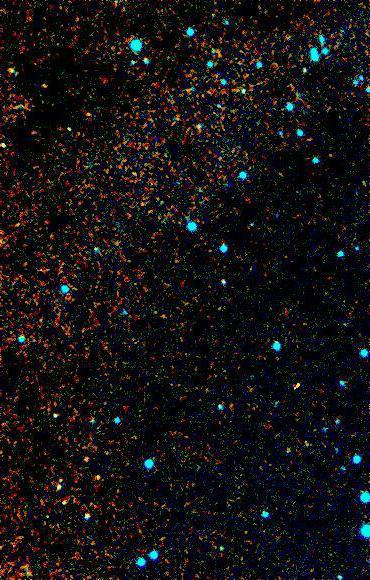star: (84, 460, 114, 490)
